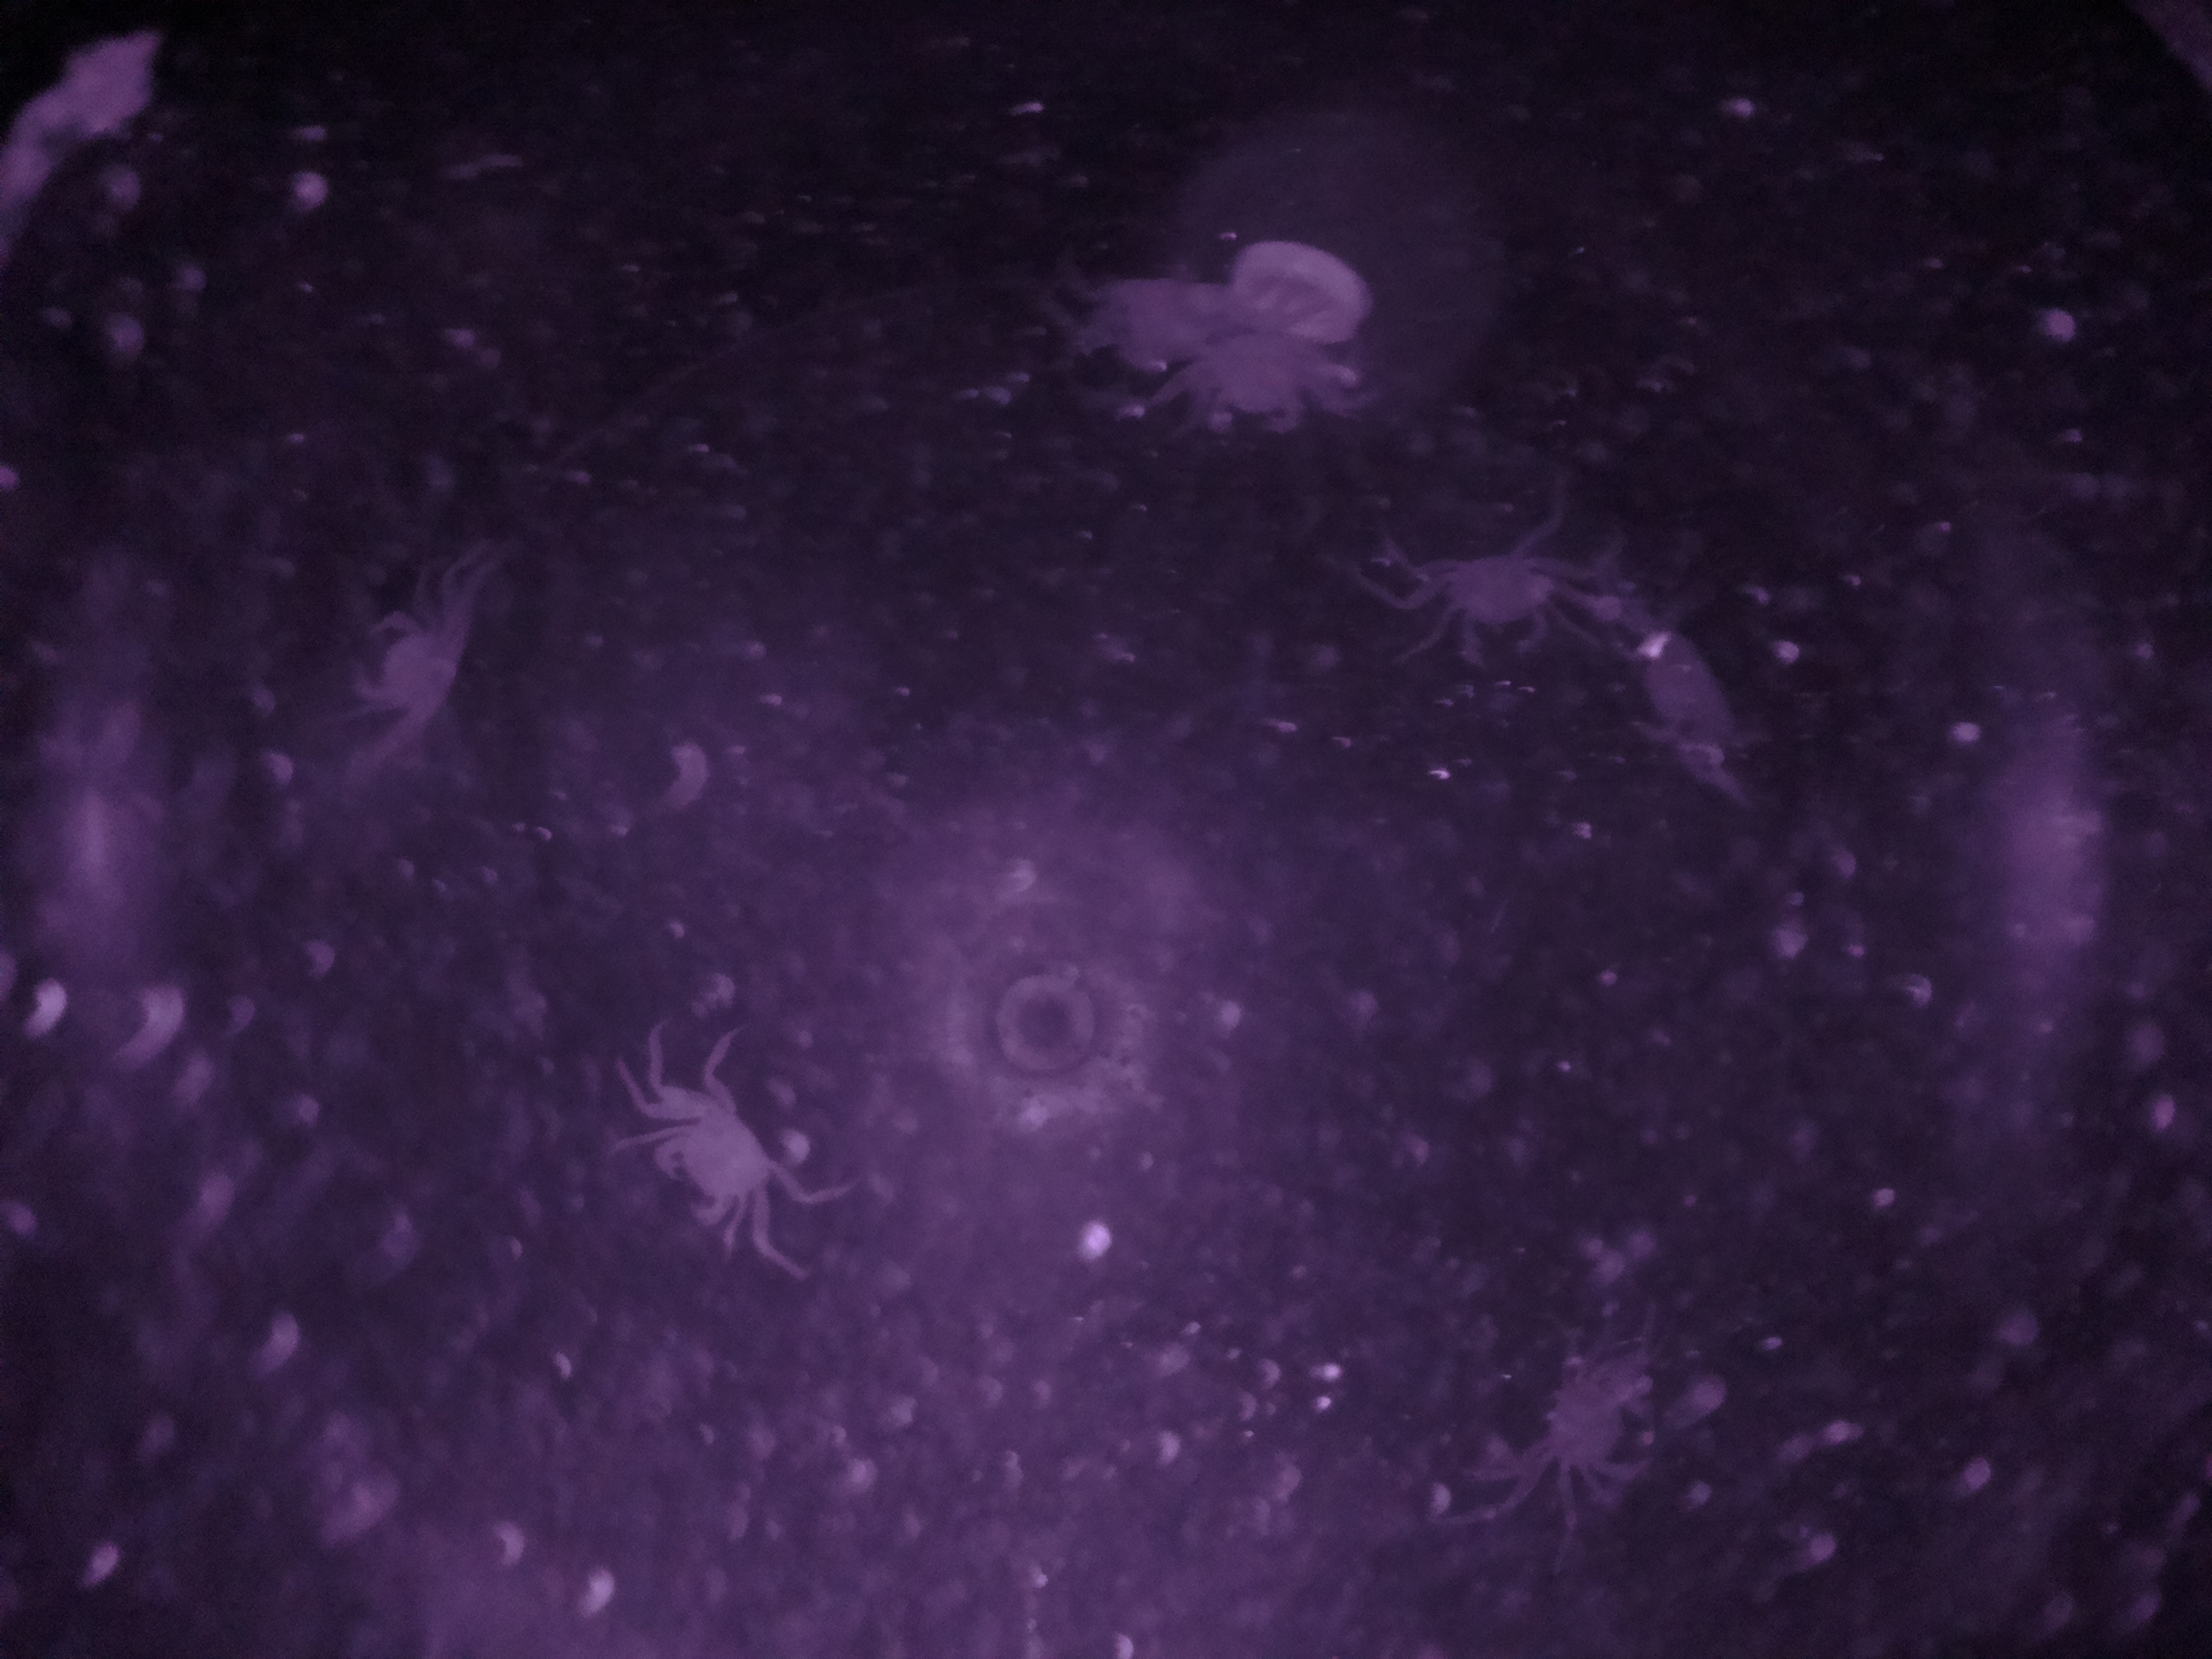Crab: (610, 1035, 806, 1277)
